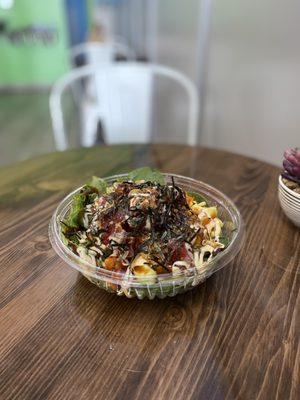sushi: (47, 166, 243, 300), (277, 173, 300, 229)
